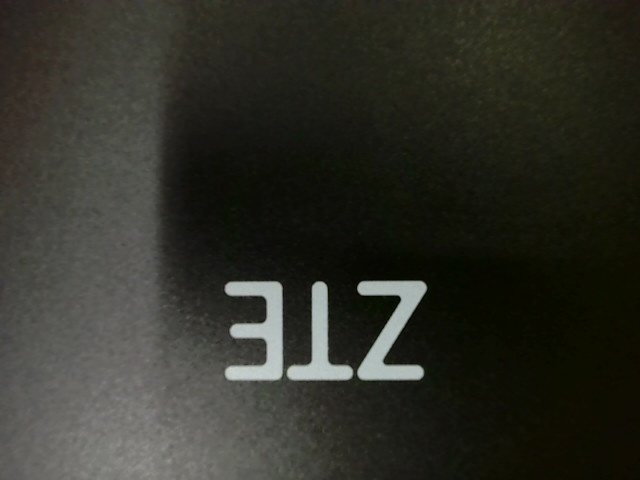AN_ZTE: (208, 264, 437, 387)
